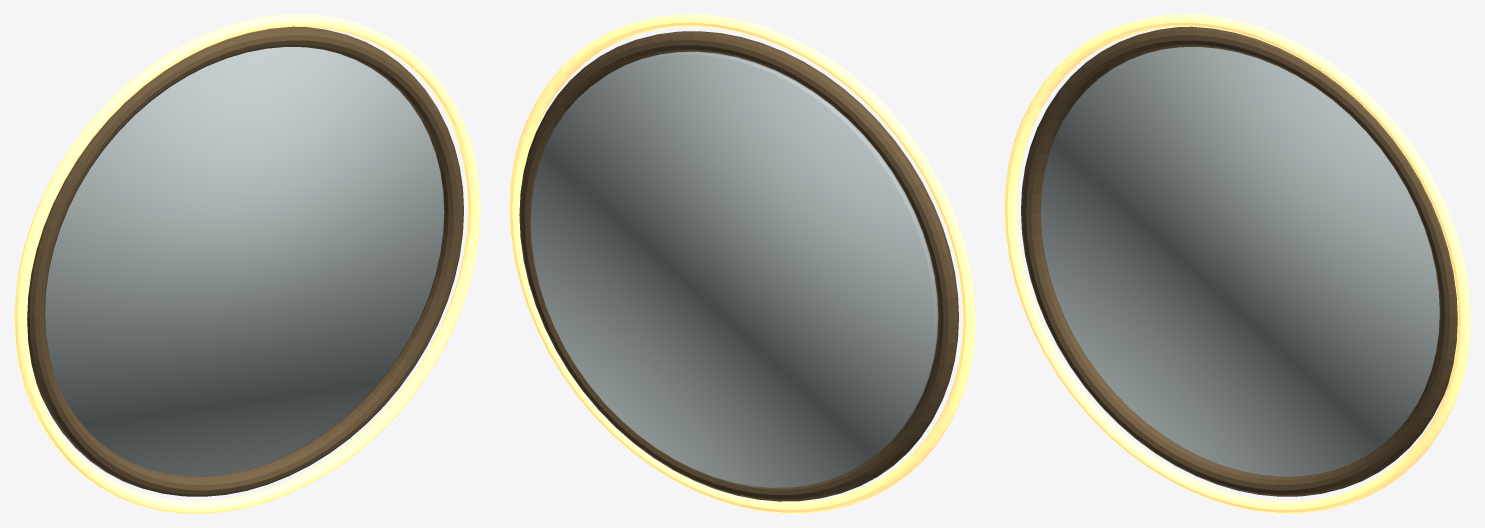
Rendered from round-mirror.glb.
3 renders of one model, left to right at view 1: azimuth 30°, elevation 25°; view 2: azimuth 150°, elevation 25°; view 3: azimuth 330°, elevation 25°, orthographic.
Parts seen in each view (by area): view 1: Mirror glass; view 2: Mirror glass; view 3: Mirror glass.
Part boxes in pixels (<box>): Mirror glass: <box>14,14,480,513</box>; Mirror glass: <box>509,14,975,513</box>; Mirror glass: <box>1004,14,1470,513</box>.
Size of the model in its own units: 0.83 by 0.83 by 0.041.
